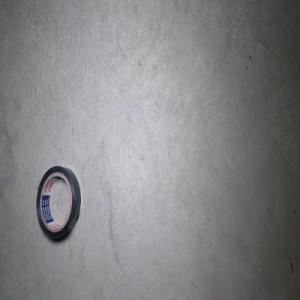Tape: (35, 165, 80, 241)
